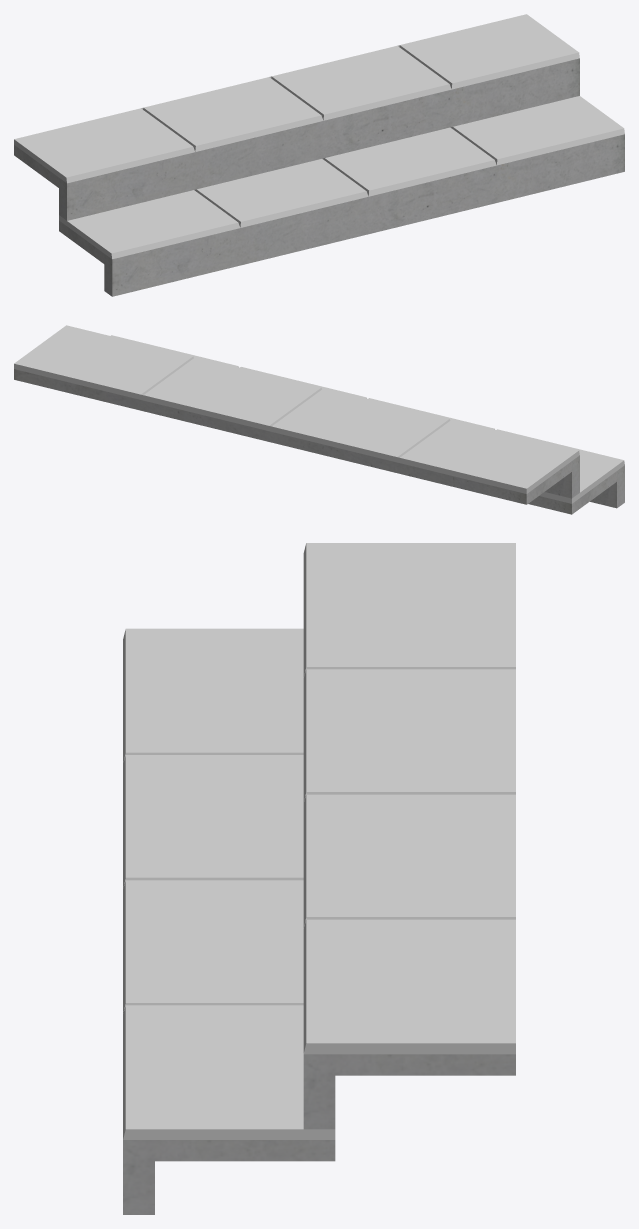
Rendered from StairMarble.fbx.
The picture shows the model from 3 angles, top to bottom: view 1: azimuth 30°, elevation 25°; view 2: azimuth 150°, elevation 25°; view 3: azimuth 270°, elevation 25°; orthographic projection. The views are drawn at different scales.
Parts seen in each view (by area): view 1: StairMarble; view 2: StairMarble; view 3: StairMarble.
Boxes of the visible parts, <box> form: StairMarble: <box>14,14,624,296</box>; StairMarble: <box>14,325,624,514</box>; StairMarble: <box>123,543,515,1214</box>.
Size of what is drawn, in the model's own units: 200 by 31.96 by 66.35.
